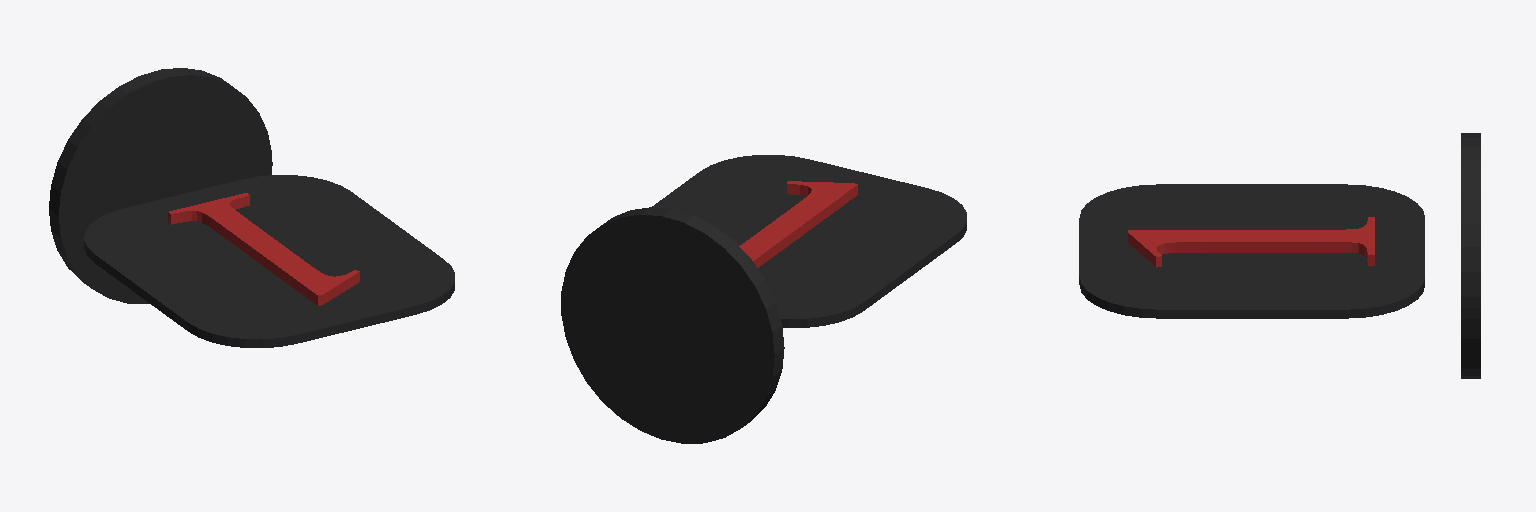
3 renders of one model, left to right at view 1: azimuth 30°, elevation 25°; view 2: azimuth 150°, elevation 25°; view 3: azimuth 270°, elevation 25°, orthographic.
Visible parts, largest first — view 1: ART_GS[number redacted]_A; view 2: ART_GS[number redacted]_A; view 3: ART_GS[number redacted]_A.
Boxes of the visible parts, box(x1,y1,x2,y2) form: ART_GS[number redacted]_A: box(49, 68, 454, 347); ART_GS[number redacted]_A: box(561, 155, 966, 443); ART_GS[number redacted]_A: box(1079, 133, 1480, 378).
Size of the model in its own units: 0.45 by 0.3745 by 0.6088.